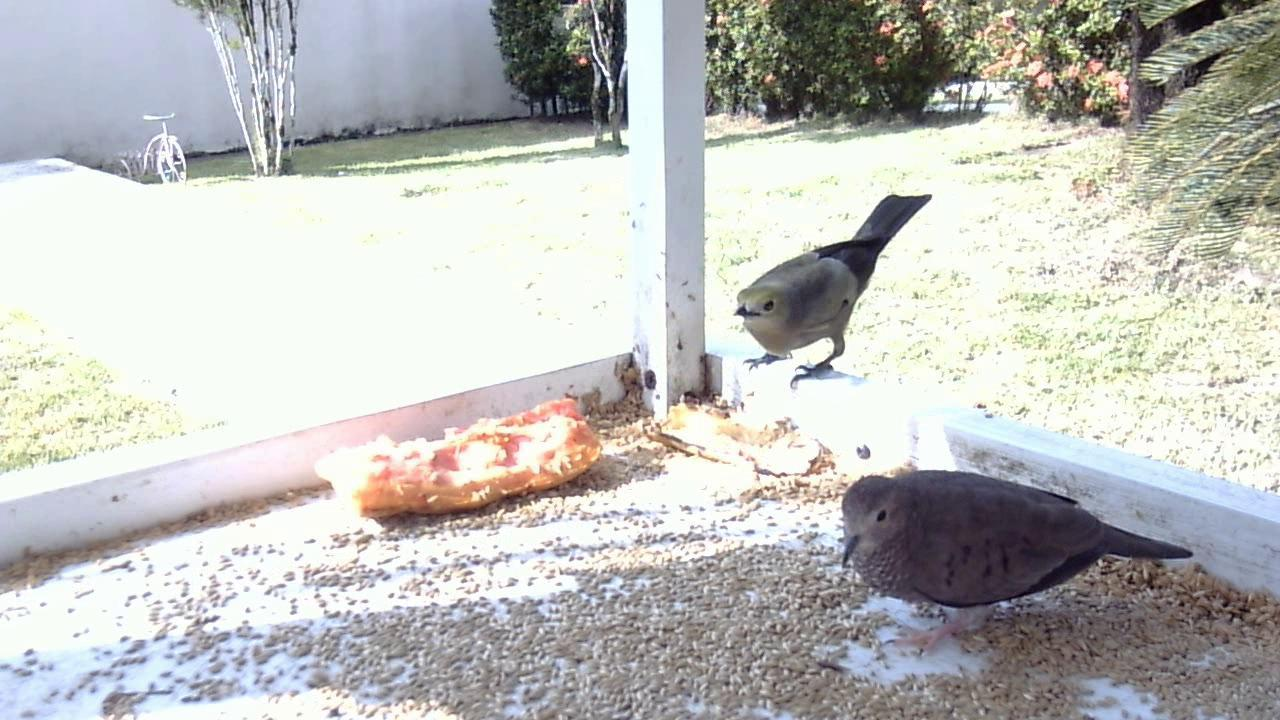rolinha: (829, 460, 1201, 666)
sanhaco_do_coqueiro: (729, 195, 936, 397)
